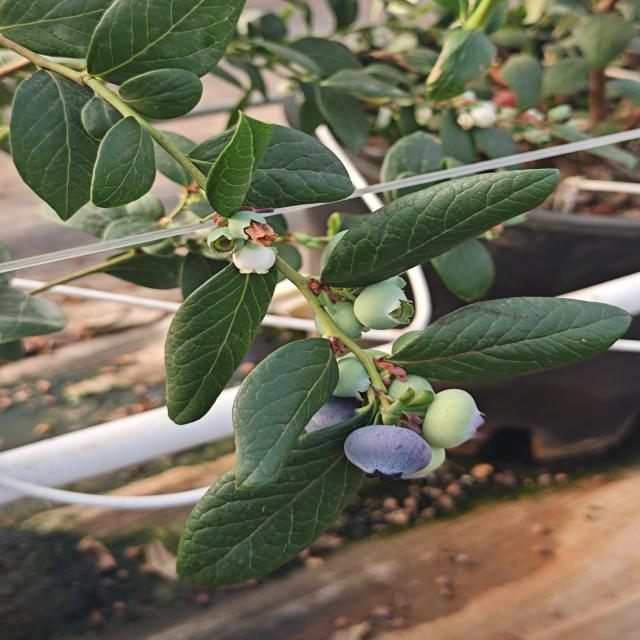ripe: (300, 374, 382, 441), (344, 423, 439, 472)
